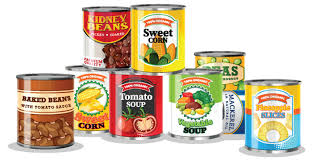can: (14, 4, 306, 159)
